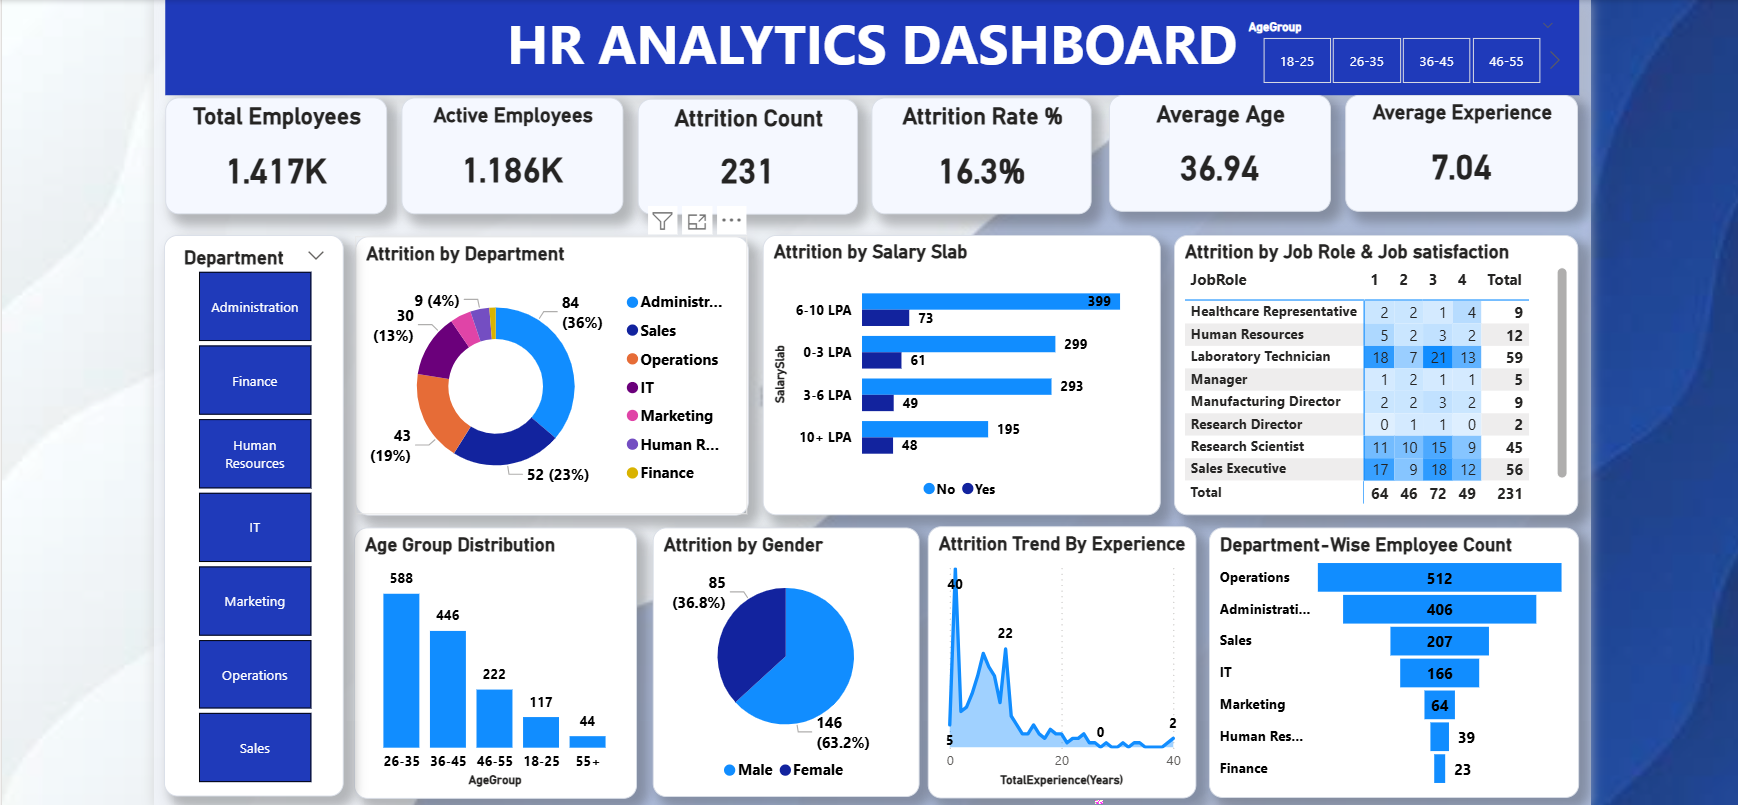

What the dashboard file says about the page in this screenshot:
{"tool":"powerbi","page":{"name":"Page 1","canvas":[1280,720],"ordinal":0},"visuals":[{"type":"textbox","box":[10,0,1259,85],"z":0},{"type":"card","title":"Total Employees","fields":{"Values":["CountNonNull(HR_Analytics.EmpID)"]},"box":[9.6,86.4,197.6,104.3],"z":1000},{"type":"card","title":"Active Employees","fields":{"Values":["Sum(HR_Analytics.EmployeeCount)"]},"box":[220.9,86.4,197.6,104.3],"z":2000},{"type":"card","title":"Attrition Count","fields":{"Values":["Sum(HR_Analytics.AttritionCount)"]},"box":[430.9,87.8,196.2,102.9],"z":3000},{"type":"card","title":"Attrition Rate %","fields":{"Values":["HR_Analytics.Attrition Rate %"]},"box":[639.5,86.4,196.2,104.3],"z":4000},{"type":"card","title":"Average Age","fields":{"Values":["Avg(HR_Analytics.Age)"]},"box":[850.8,85.1,197.6,104.3],"z":5000},{"type":"card","title":"Average Experience","fields":{"Values":["Avg(HR_Analytics.YearsatCompany)"]},"box":[1060.7,85.1,207.2,104.3],"z":6000},{"type":"donutChart","title":"Attrition by Department","fields":{"Category":["HR_Analytics.Department"],"Y":["Sum(HR_Analytics.AttritionCount)"]},"box":[179,210,350,249],"z":7000},{"type":"clusteredBarChart","title":"Attrition by Salary Slab","fields":{"Category":["HR_Analytics.SalarySlab"],"Y":["CountNonNull(HR_Analytics.EmpID)"],"Series":["HR_Analytics.Attrition"]},"box":[542,209.7,354.5,249.6],"z":8000},{"type":"pivotTable","title":"Attrition by Job Role & Job satisfaction","fields":{"Rows":["HR_Analytics.JobRole"],"Values":["Sum(HR_Analytics.AttritionCount)"],"Columns":["HR_Analytics.JobSatisfaction"]},"box":[908.3,209.7,360.4,249.6],"z":9000},{"type":"columnChart","title":"Age Group Distribution","fields":{"Category":["HR_Analytics.AgeGroup"],"Y":["Sum(HR_Analytics.EmployeeCount)"]},"box":[178.6,469.3,252.1,241.3],"z":10000},{"type":"pieChart","title":"Attrition by Gender","fields":{"Category":["HR_Analytics.Gender"],"Y":["Sum(HR_Analytics.AttritionCount)"]},"box":[444,469.3,237.7,240.1],"z":11000},{"type":"areaChart","title":"Attrition Trend By Experience","fields":{"Category":["HR_Analytics.TotalExperience(Years)"],"Y2":["Sum(HR_Analytics.AttritionCount)"]},"box":[689,469,239,242],"z":12000},{"type":"funnel","title":"Department-Wise Employee Count","fields":{"Category":["HR_Analytics.Department"],"Y":["CountNonNull(HR_Analytics.EmpID)"]},"box":[939.3,469.7,329.4,240.7],"z":13000},{"type":"slicer","fields":{"Values":["HR_Analytics.Department"]},"box":[8.6,209.2,160,499.7],"z":14000},{"type":"slicer","fields":{"Values":["HR_Analytics.AgeGroup"]},"box":[961.4,12.2,296.9,68.4],"z":15000}]}

Visuals, with their boxes on the page's 1280x720 design canvas (x1, y1, x2, y2). These are canvas units, not pixel positions in the 1738x805 screenshot, which may show the page scaled, cropped or inside an application window:
textbox: rect(10, 0, 1269, 85)
"Total Employees" card: rect(10, 86, 207, 191)
"Active Employees" card: rect(221, 86, 418, 191)
"Attrition Count" card: rect(431, 88, 627, 191)
"Attrition Rate %" card: rect(640, 86, 836, 191)
"Average Age" card: rect(851, 85, 1048, 189)
"Average Experience" card: rect(1061, 85, 1268, 189)
"Attrition by Department" donutChart: rect(179, 210, 529, 459)
"Attrition by Salary Slab" clusteredBarChart: rect(542, 210, 896, 459)
"Attrition by Job Role & Job satisfaction" pivotTable: rect(908, 210, 1269, 459)
"Age Group Distribution" columnChart: rect(179, 469, 431, 711)
"Attrition by Gender" pieChart: rect(444, 469, 682, 709)
"Attrition Trend By Experience" areaChart: rect(689, 469, 928, 711)
"Department-Wise Employee Count" funnel: rect(939, 470, 1269, 710)
slicer - HR_Analytics.Department: rect(9, 209, 169, 709)
slicer - HR_Analytics.AgeGroup: rect(961, 12, 1258, 81)
